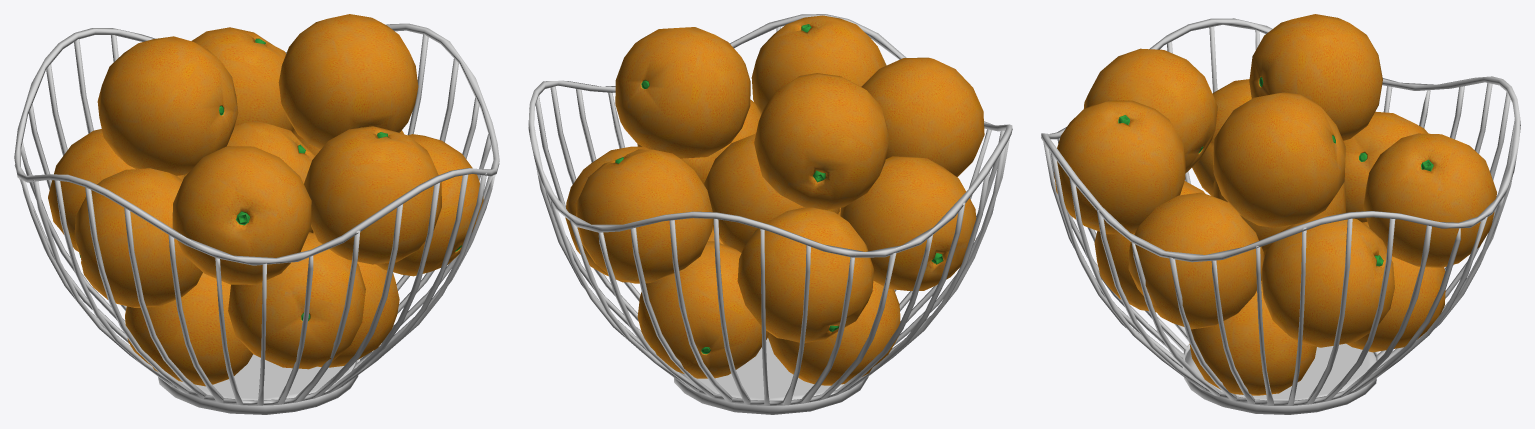
Rendered from orange-basket.glb.
The picture shows the model from 3 angles, left to right: view 1: azimuth 30°, elevation 25°; view 2: azimuth 150°, elevation 25°; view 3: azimuth 270°, elevation 25°; orthographic projection. The views are drawn at different scales.
Visible parts, largest first — view 1: Cube.015_0; view 2: Cube.015_0; view 3: Cube.015_0.
Part boxes in pixels (left/top/right/bottom): Cube.015_0: left=14, top=14, right=499, bottom=414; Cube.015_0: left=528, top=14, right=1012, bottom=414; Cube.015_0: left=1041, top=14, right=1520, bottom=414.
Bounding box in the file's own units: 0.2182 × 0.1611 × 0.2188.
Materials: 3 (1 with a texture image).
